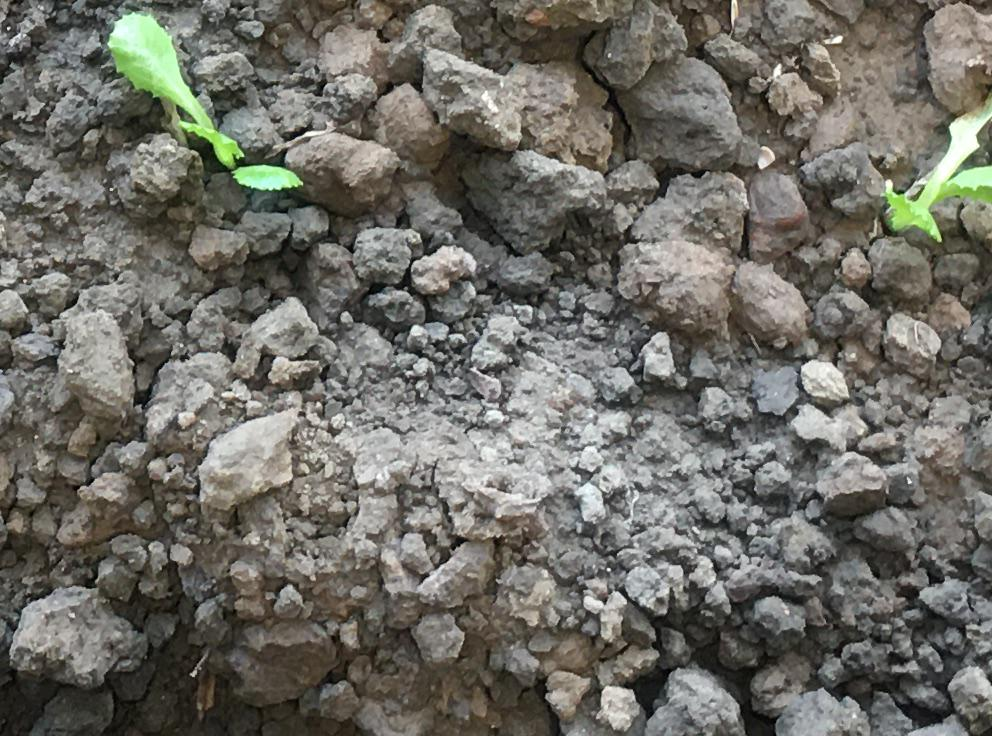block: (460, 138, 612, 256), (609, 48, 743, 175), (6, 577, 127, 684), (613, 233, 726, 337), (417, 48, 519, 152), (276, 128, 395, 214), (62, 315, 139, 417)
